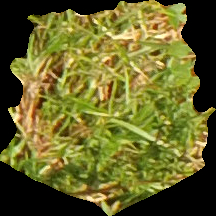grass: (1, 1, 215, 215)
